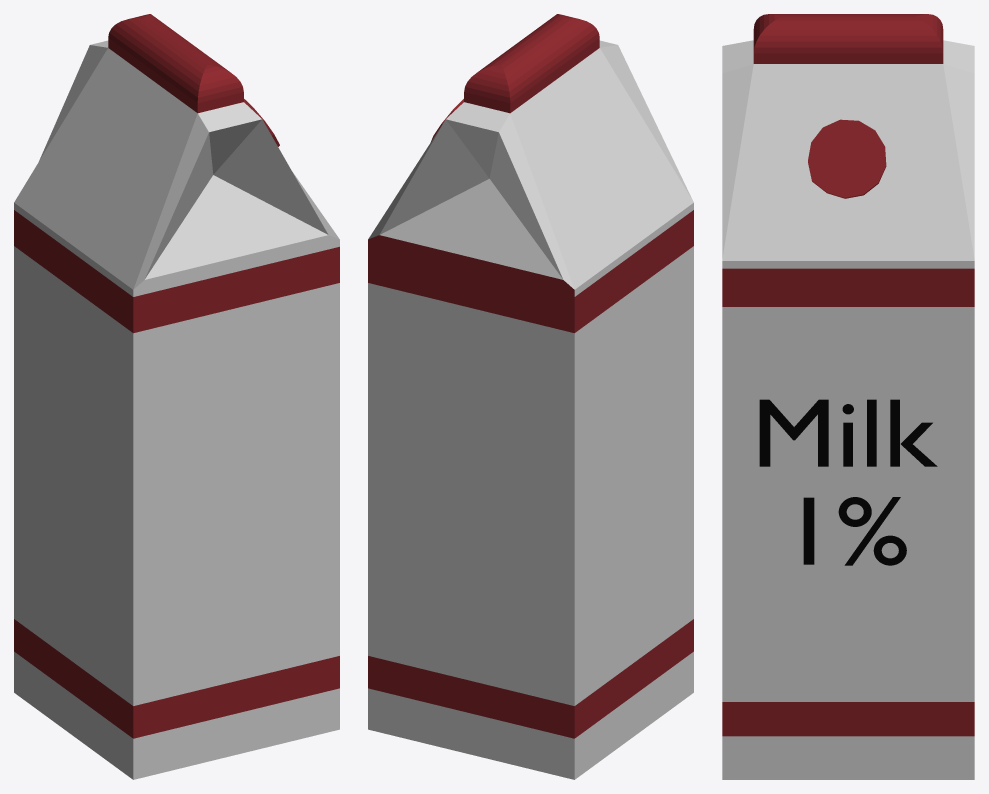
File: Item_MilkRed.fbx
The picture shows the model from 3 angles, left to right: view 1: azimuth 30°, elevation 25°; view 2: azimuth 150°, elevation 25°; view 3: azimuth 270°, elevation 25°; orthographic projection. The views are drawn at different scales.
Parts seen in each view (by area): view 1: Cube; view 2: Cube; view 3: Cube, Text.
Boxes of the visible parts, x1,y1,x2,y2 form: Cube: (14,14,339,779); Cube: (368,14,693,779); Cube: (722,14,974,779); Text: (759,399,937,565).
Size of the model in its own units: 201 by 619 by 200.
